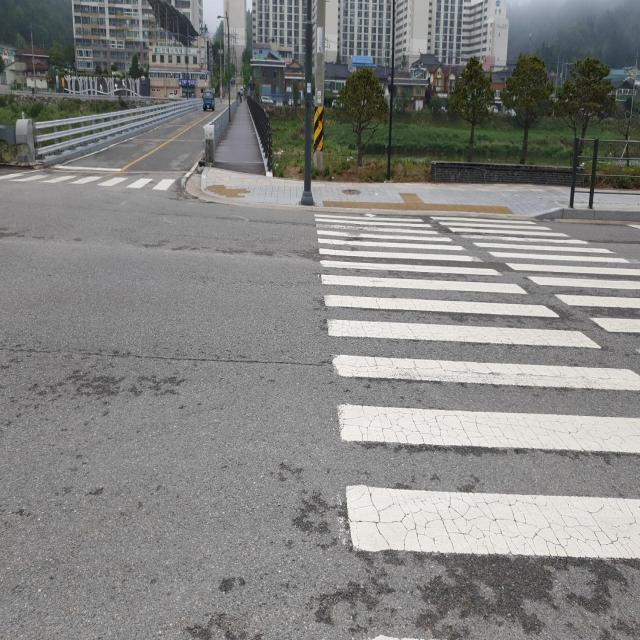횡단보도: (310, 206, 640, 566), (0, 164, 187, 198)
